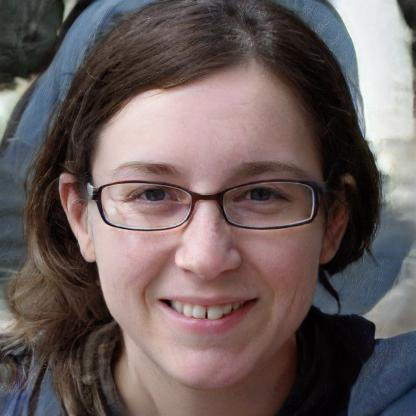glasses: (89, 175, 321, 237)
